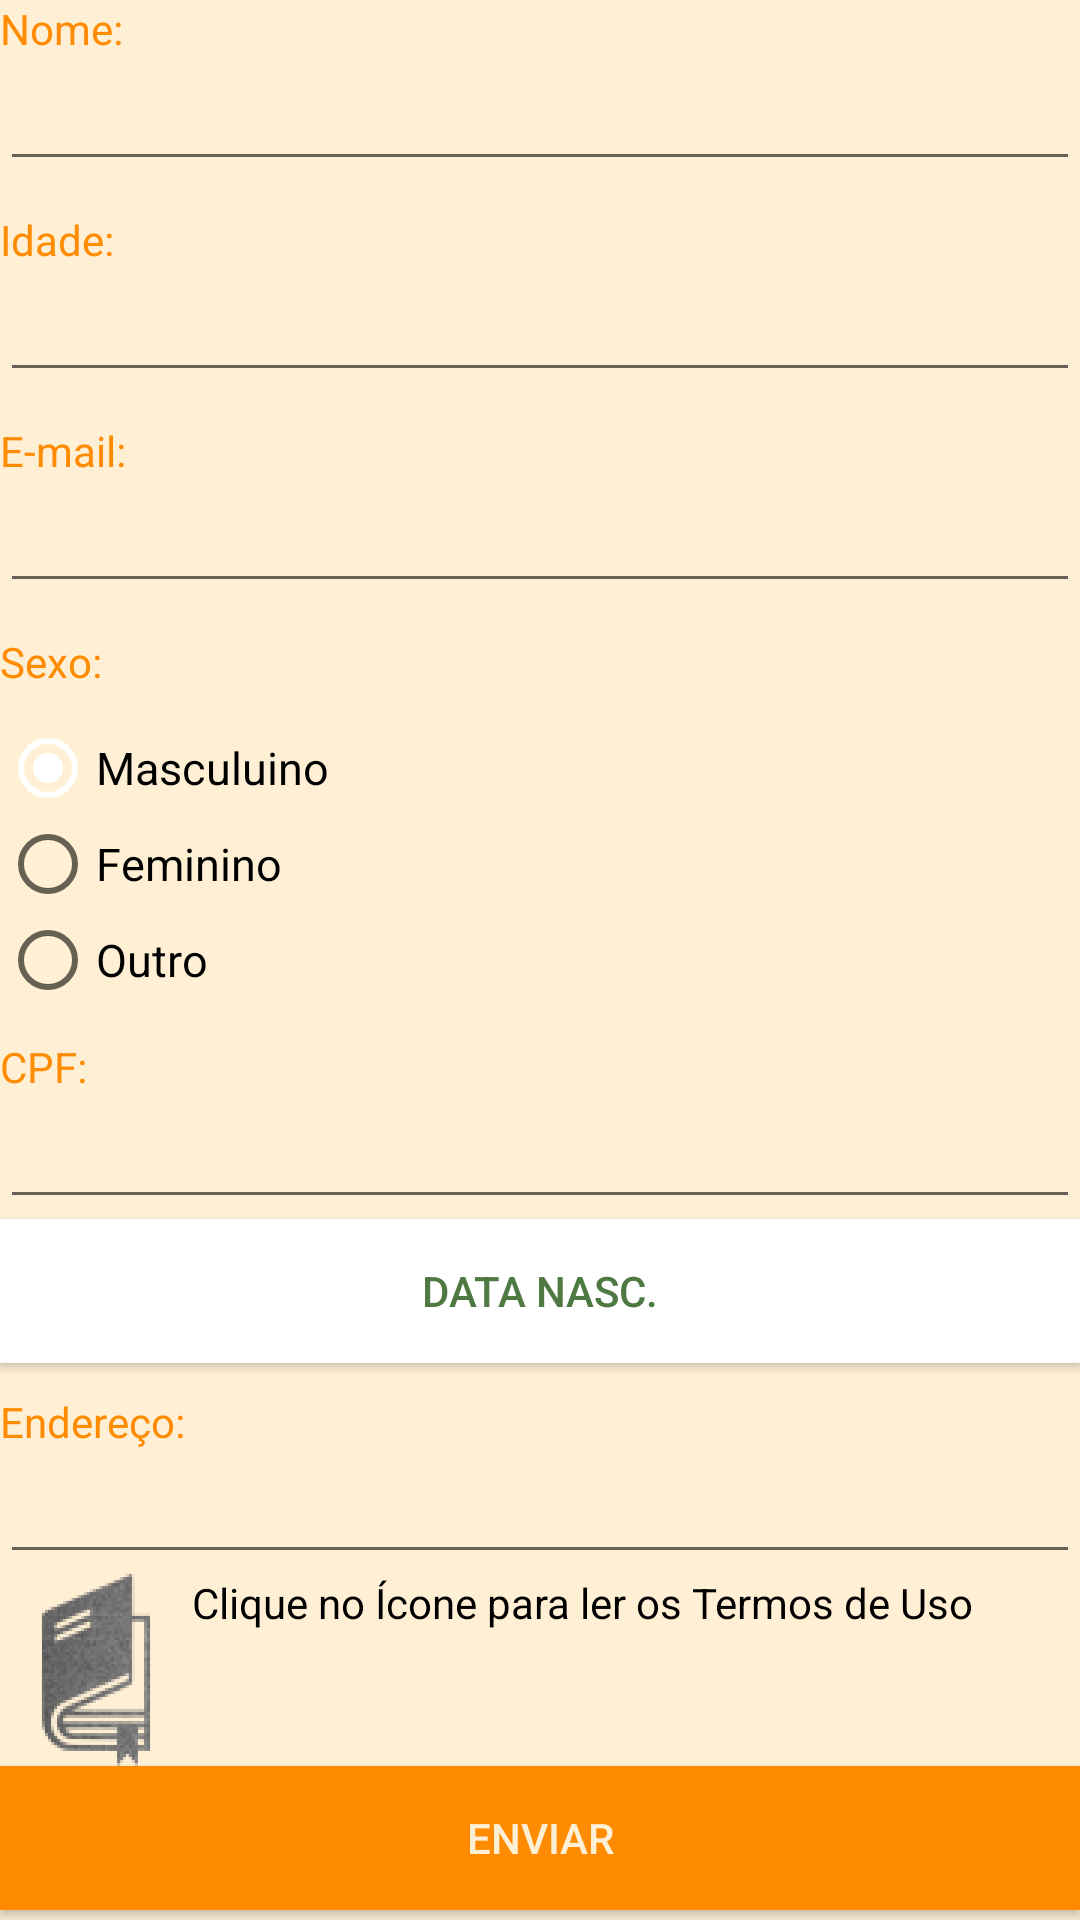

Point at icon controls on the screen. Image size 1080×1920, points as point (x, y).
iconetermo: point (96, 1670)
